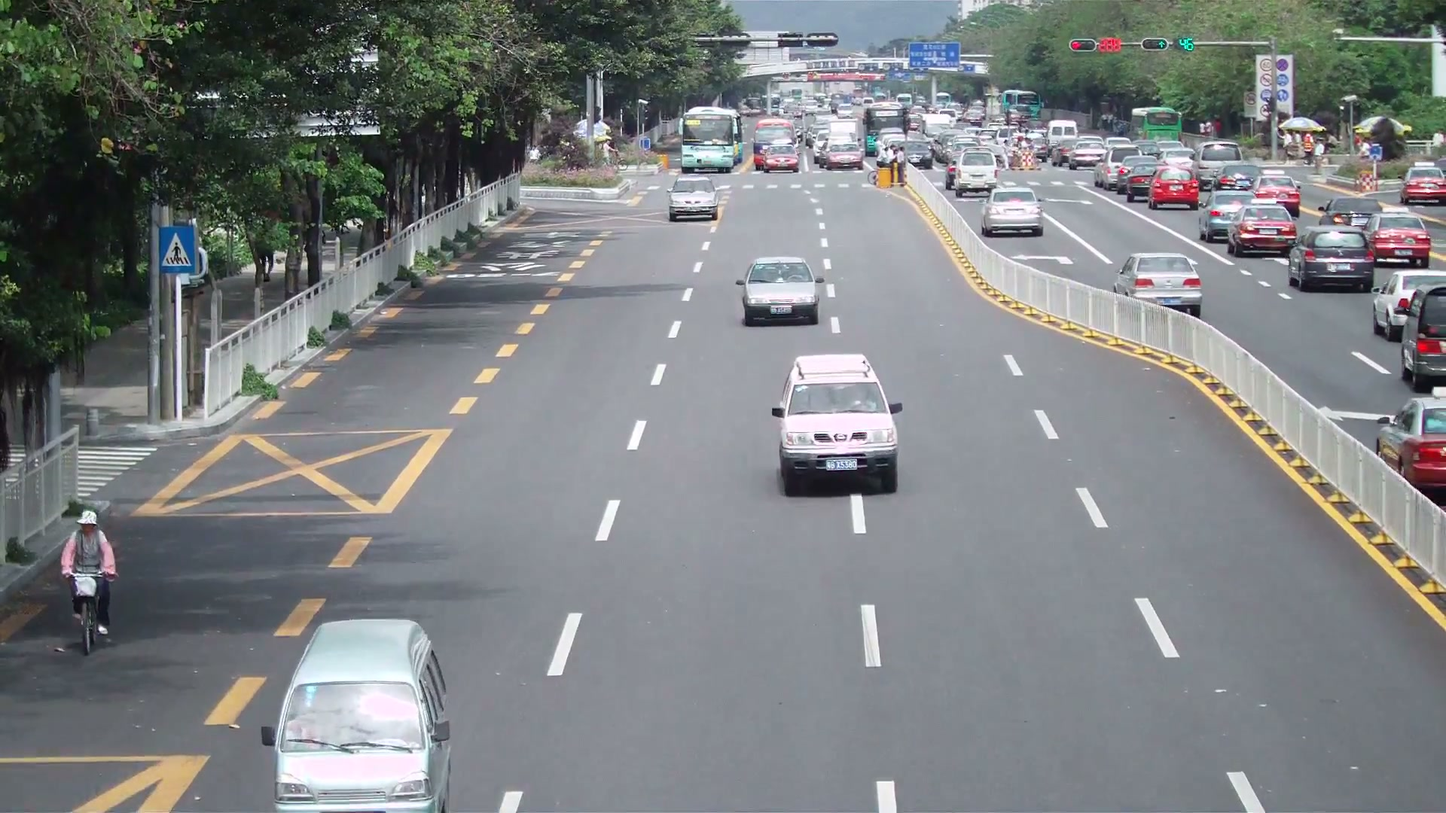bus: (680, 105, 740, 173)
car: (271, 616, 453, 811), (771, 352, 902, 495), (1375, 396, 1446, 503), (1285, 224, 1374, 293), (1109, 250, 1204, 313), (739, 256, 820, 326), (1371, 268, 1445, 339), (1399, 283, 1445, 393), (1367, 208, 1432, 267), (1227, 203, 1297, 257), (980, 182, 1044, 237), (1197, 195, 1248, 241), (667, 177, 720, 221), (1252, 173, 1303, 216), (1148, 168, 1200, 209), (1400, 163, 1445, 206), (753, 134, 801, 174)
pedestrian: (61, 508, 118, 639)
truck: (822, 106, 865, 171), (951, 148, 998, 198)
